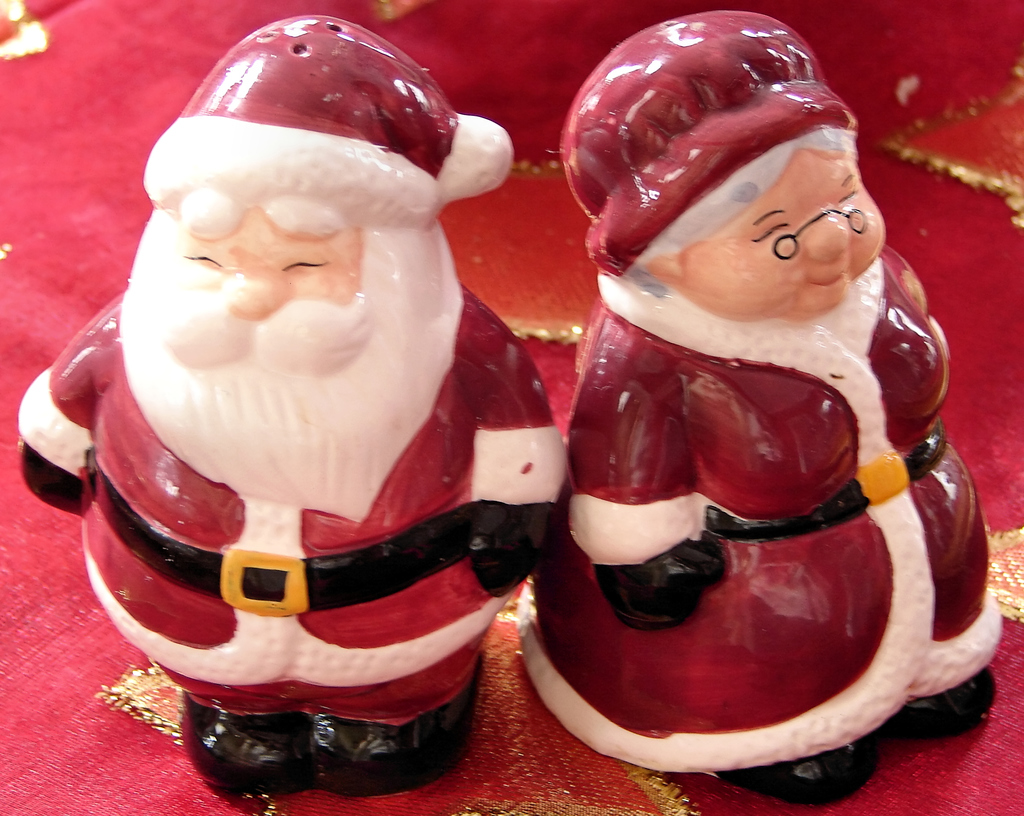Human_hand: (592, 531, 725, 632), (467, 501, 554, 597), (23, 436, 84, 517)
